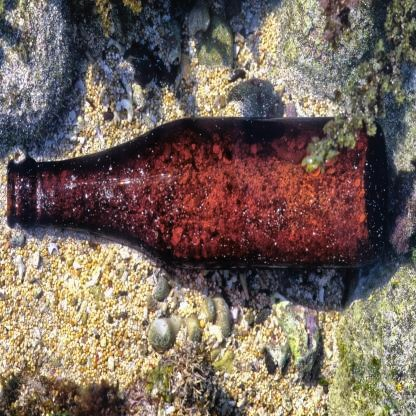gbottle: (7, 118, 386, 269)
